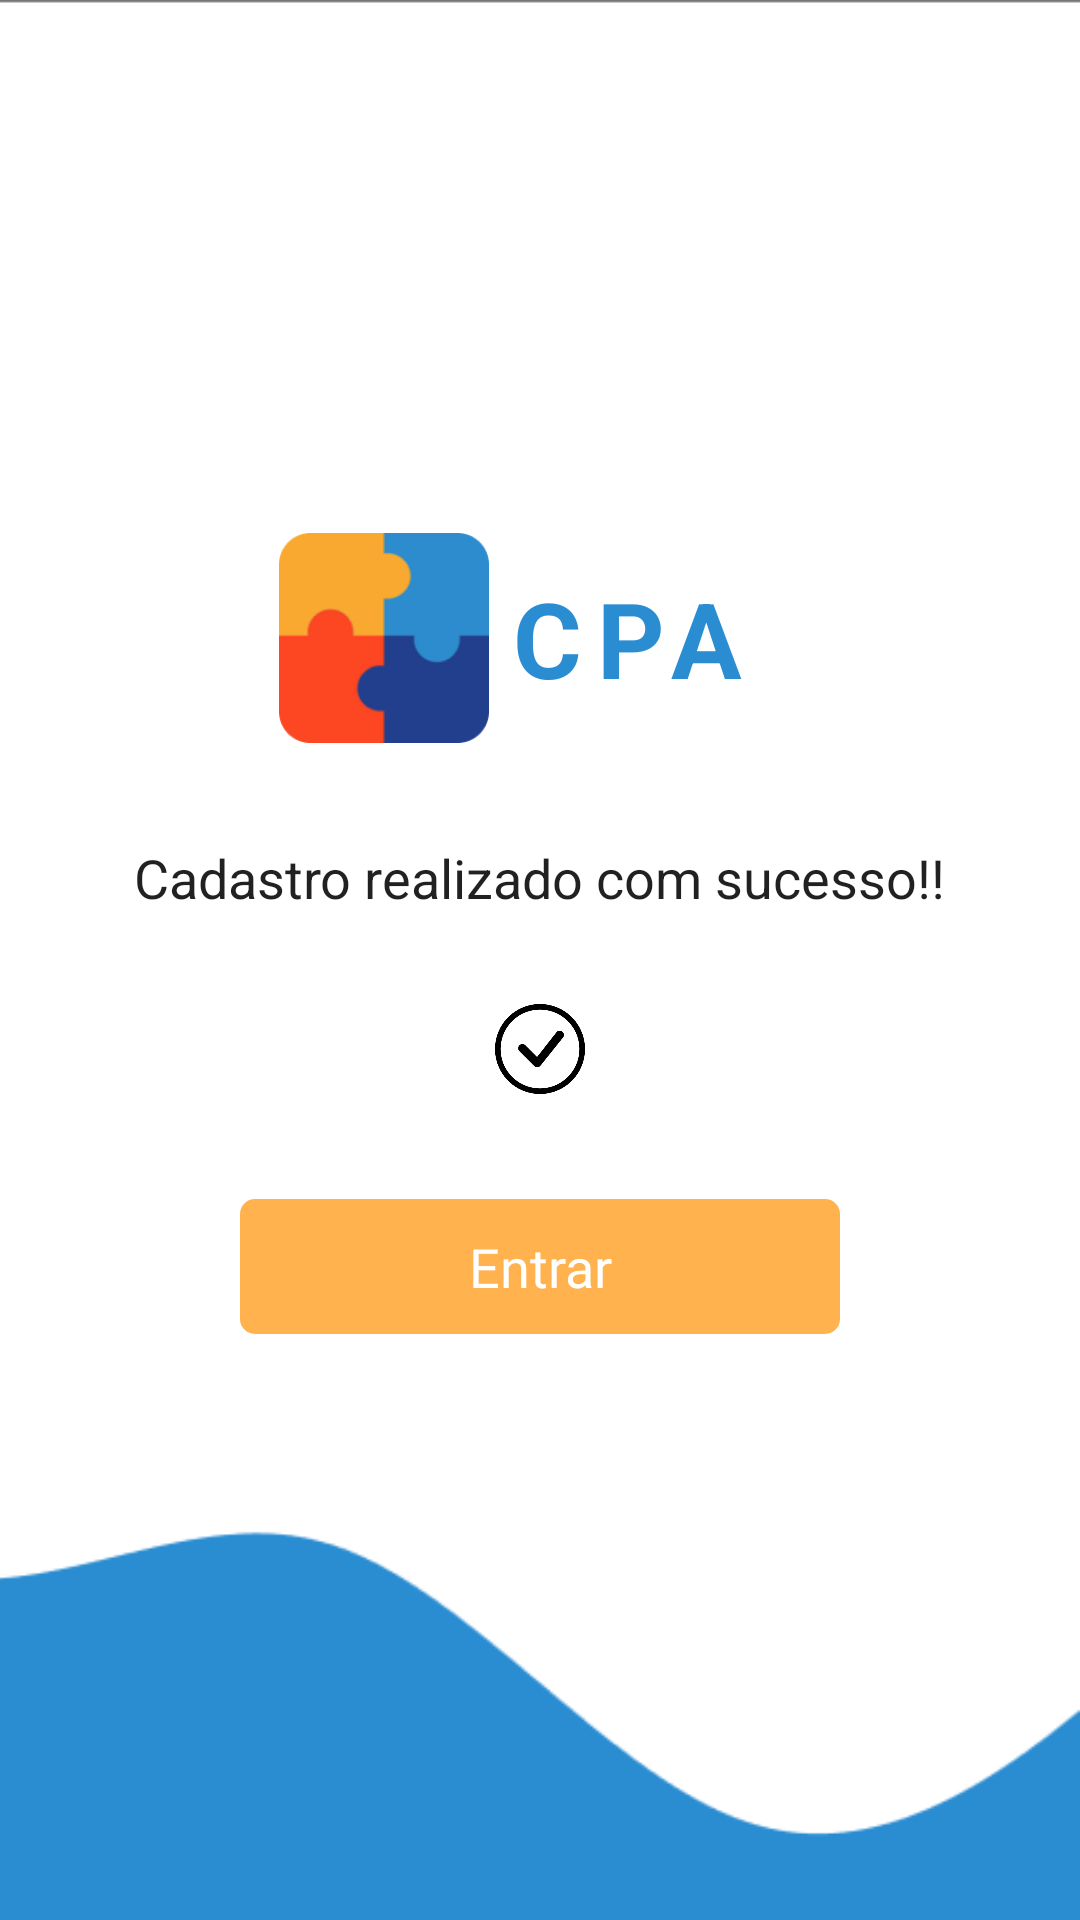

Screen size 1080 × 1920. Icon name, then its center in pixels as [x,y]:
okay: [540,1049]
